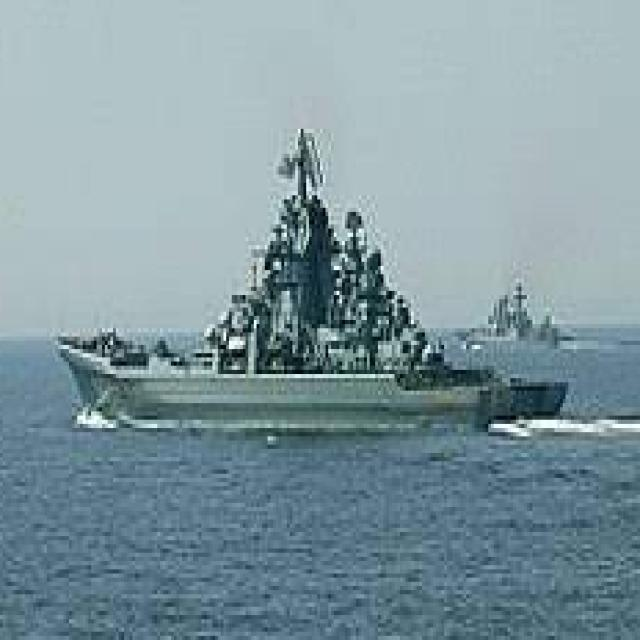navalvessels: (54, 139, 568, 456), (464, 282, 570, 351)
